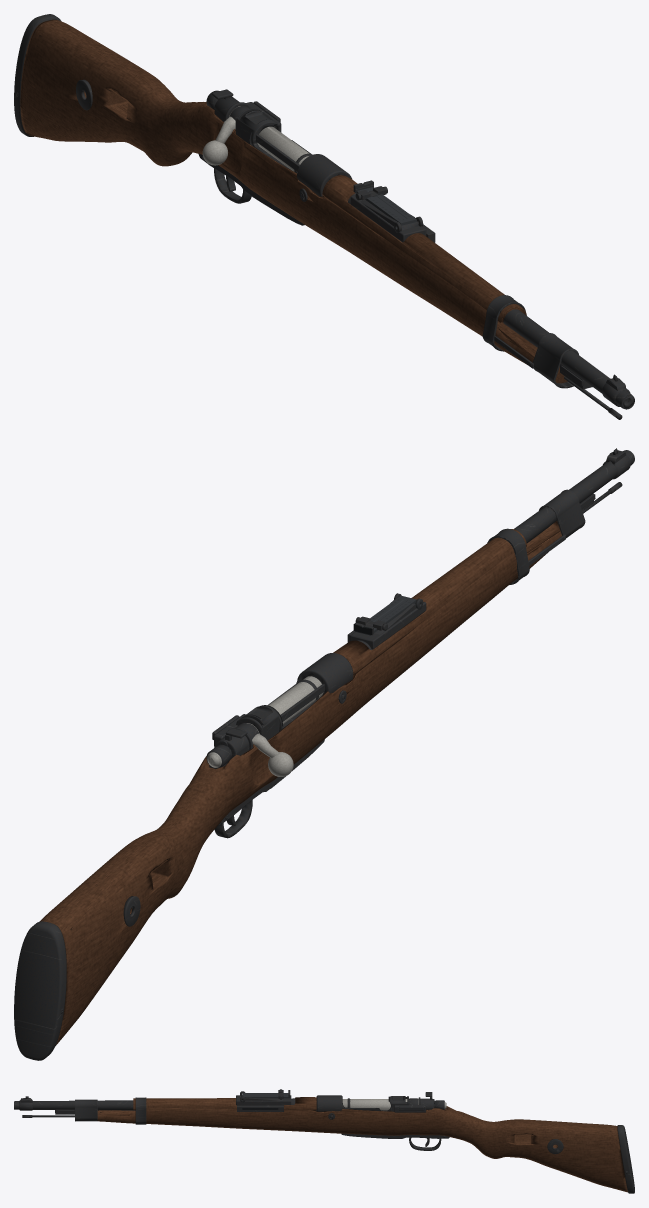
Rendered from SM_Kar98k_LOD1.fbx.
The picture shows the model from 3 angles, top to bottom: view 1: azimuth 30°, elevation 25°; view 2: azimuth 150°, elevation 25°; view 3: azimuth 270°, elevation 25°; orthographic projection. The views are drawn at different scales.
Visible parts, largest first — view 1: SM_Kar98k_LOD1; view 2: SM_Kar98k_LOD1; view 3: SM_Kar98k_LOD1.
Part boxes in pixels (x1,y1,x2,y2): SM_Kar98k_LOD1: [14, 14, 634, 419]; SM_Kar98k_LOD1: [14, 448, 634, 1060]; SM_Kar98k_LOD1: [14, 1089, 634, 1193].
Size of the model in its own units: 7.36 by 110 by 19.66.
